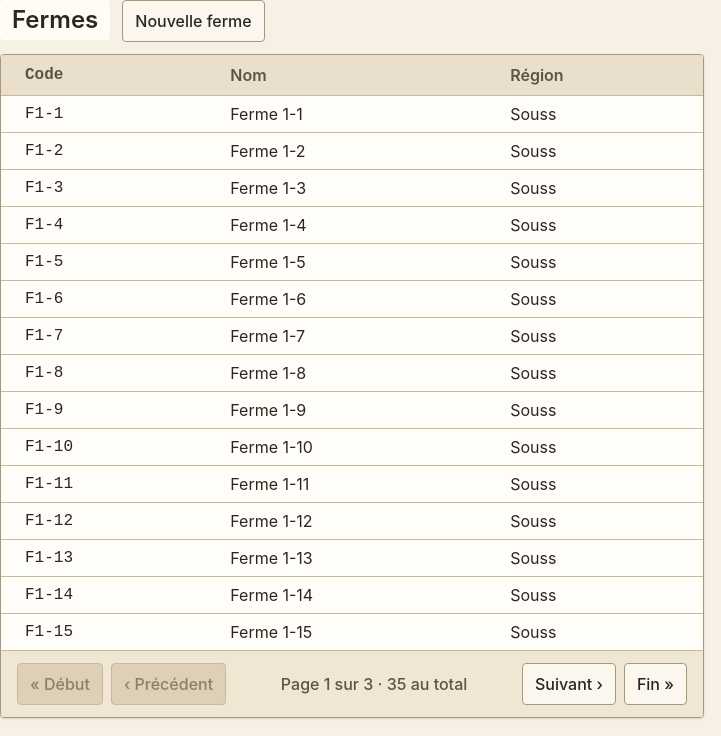
Test case: FarmsPage › goes to the next page and back, with the buttons disabled at both ends
expect the text "Ferme 1-1" is shown: met, box [206,96,486,132]
expect the text "Page 1 sur 3 · 35 au total" is shown: met, box [273,672,475,696]
Click the button "Suivant ›": (569, 684) [522,663,616,705]
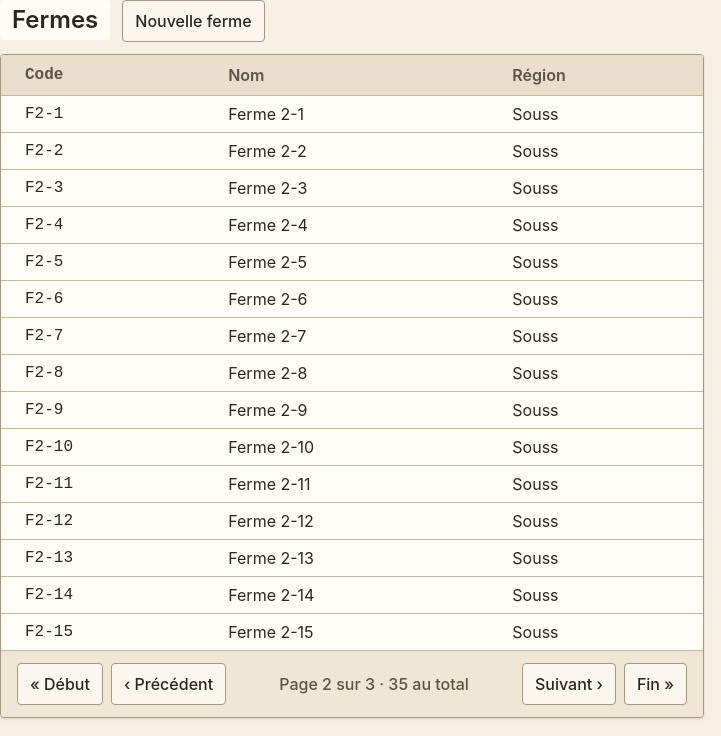
expect the text "Ferme 2-1" is shown: met, box [204,96,488,132]
Click the button "Suivant ›": (569, 684) [522,663,616,705]
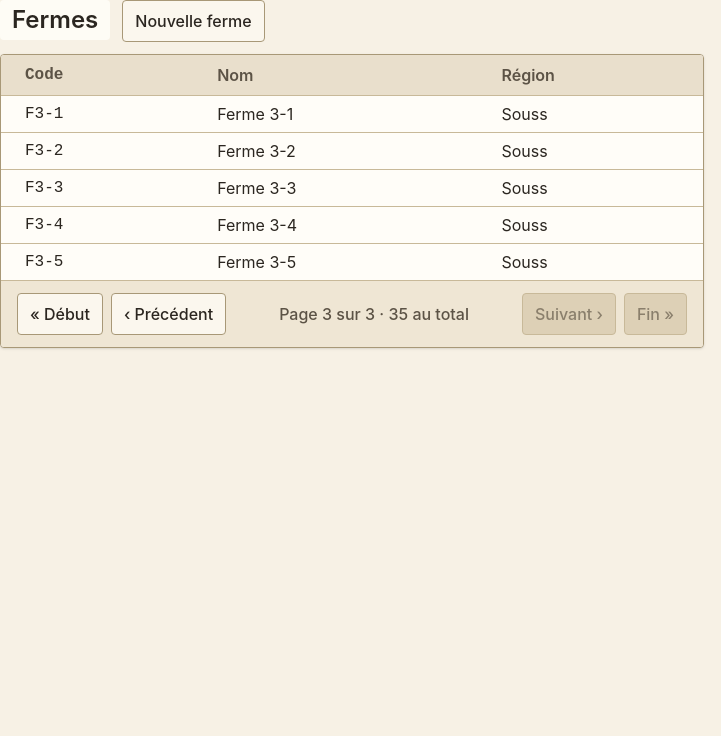
expect the text "Ferme 3-1" is shown: met, box [193,96,477,132]
expect the text "Page 3 sur 3 · 35 au total" is shown: met, box [271,302,477,326]
expect the button "Suivant ›" is disabled: met, box [522,293,616,335]
Click the button "‹ Précédent": (168, 314) [111,293,226,335]
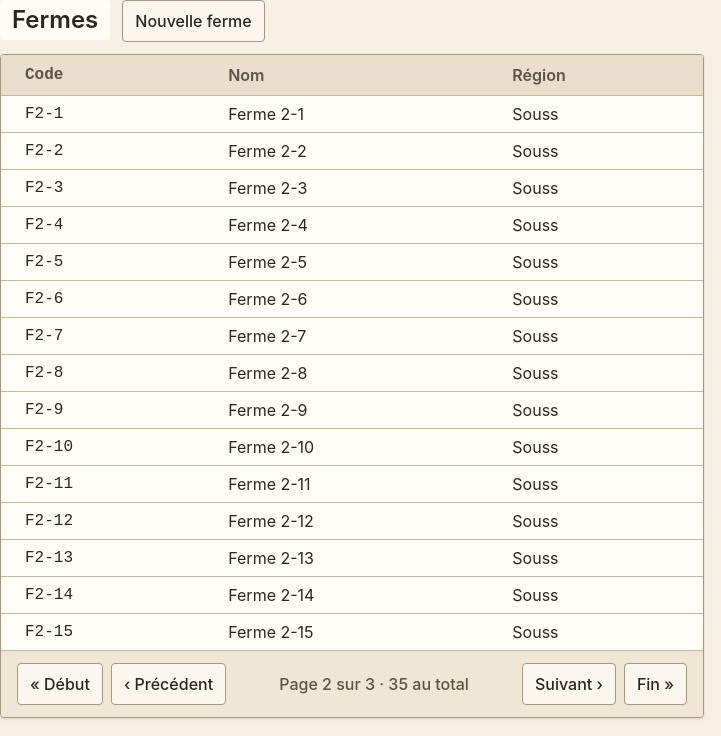
expect the text "Ferme 2-1" is shown: met, box [204,96,488,132]
